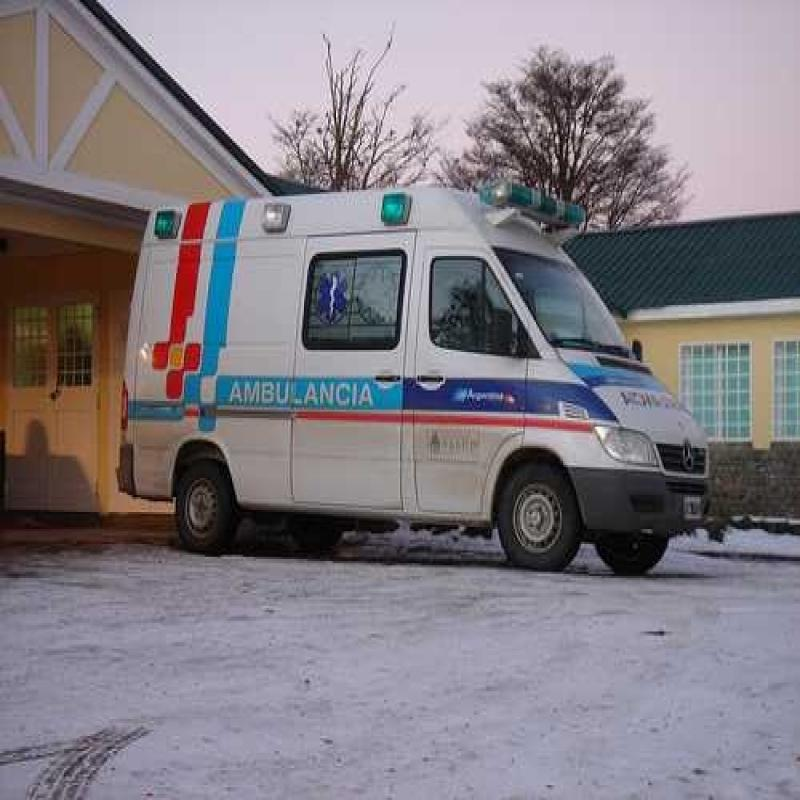AmbulanceSiren: (474, 155, 610, 237)
